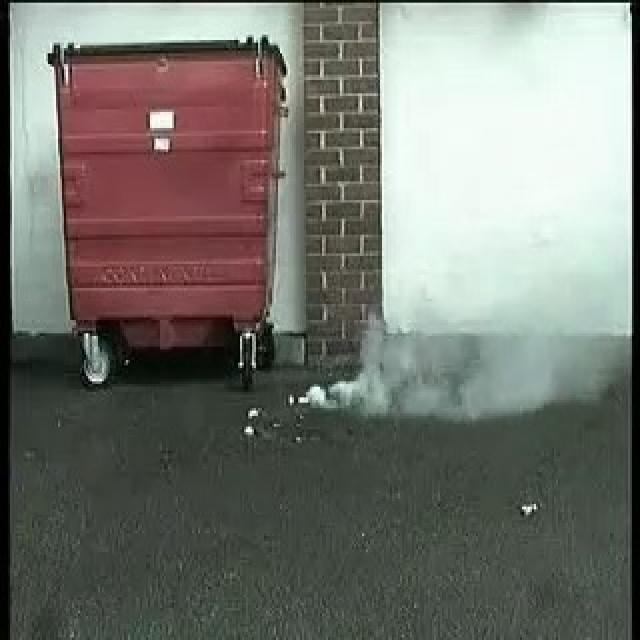smoke: (294, 311, 550, 419)
